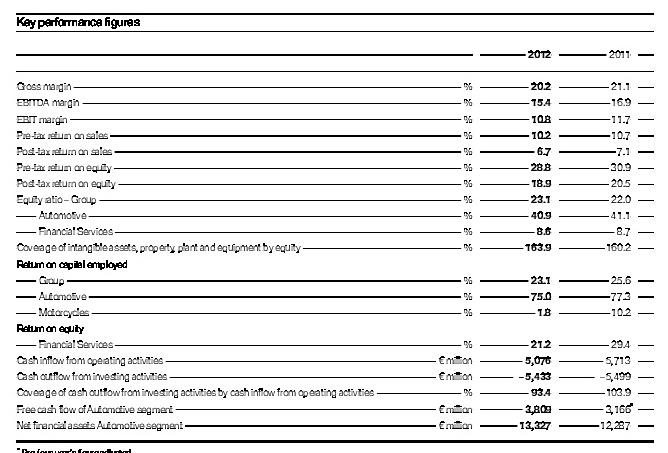table: (0, 0, 668, 453)
